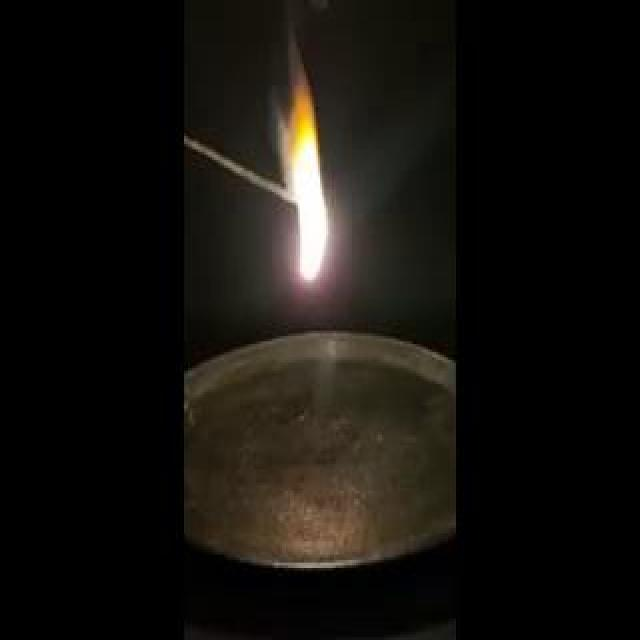Fire: (80, 166, 312, 258)
